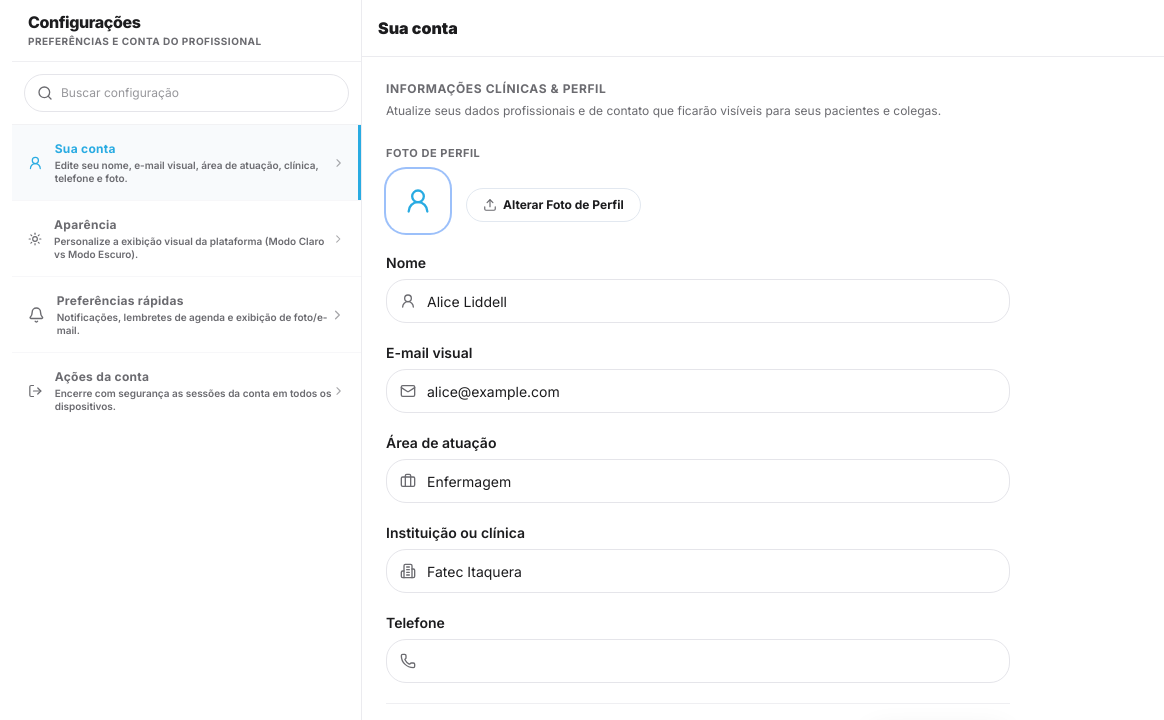
Scenario: SettingsPage › renderiza ações da conta no formato compacto
The image size is (1164, 720).
Click the button "Ações da conta" at [186, 390], box [12,352,361,428]
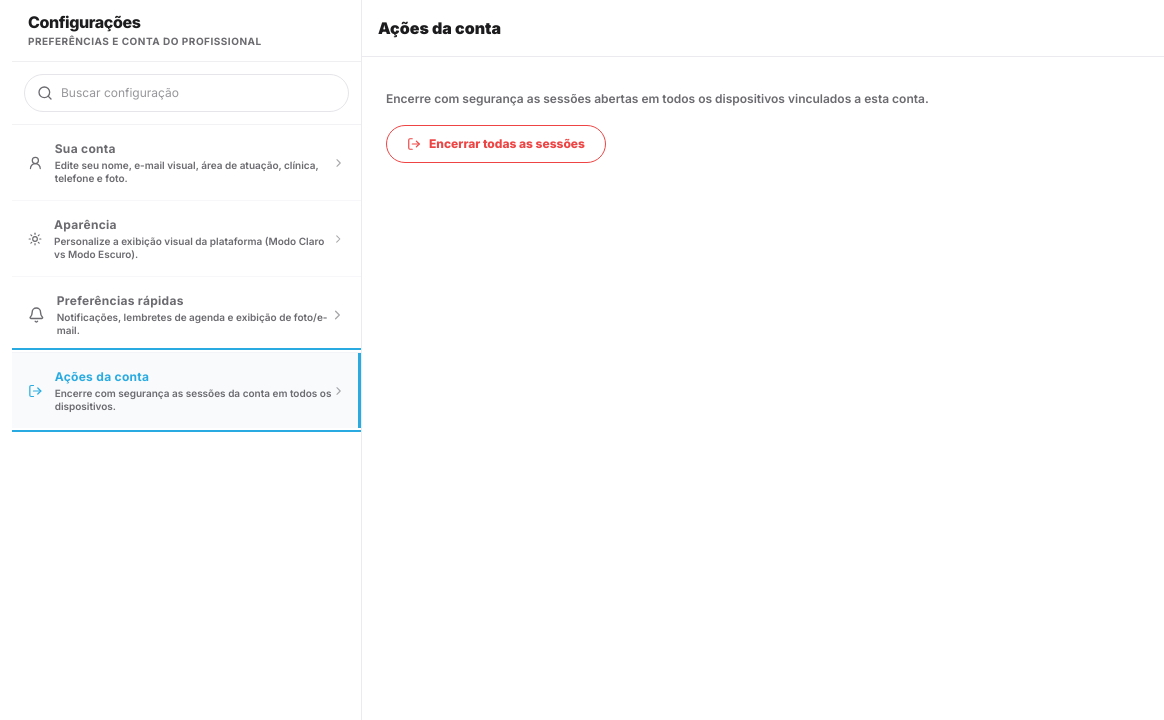
Check: the text "sessões abertas em todos os dispositivos vinculados" is shown, box [386,91,929,106]
Check: the button "Encerrar todas as sessões" is shown, box [386,124,606,162]
